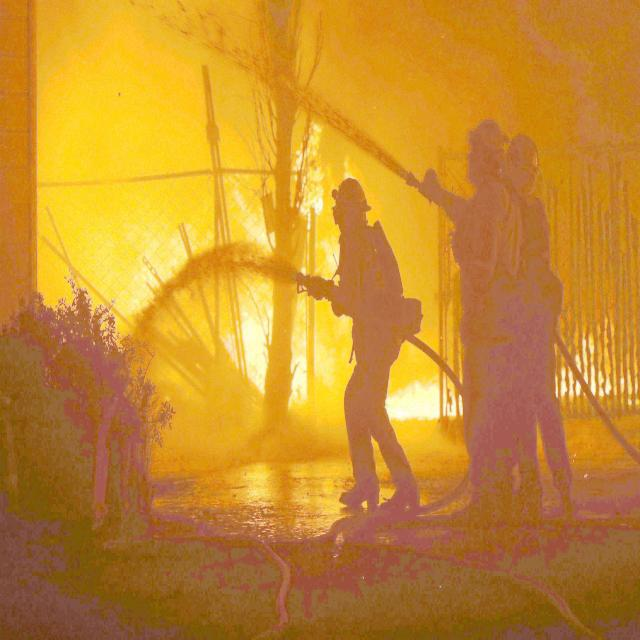api: (212, 193, 338, 391), (552, 329, 640, 406), (292, 116, 330, 217), (383, 377, 460, 424)
